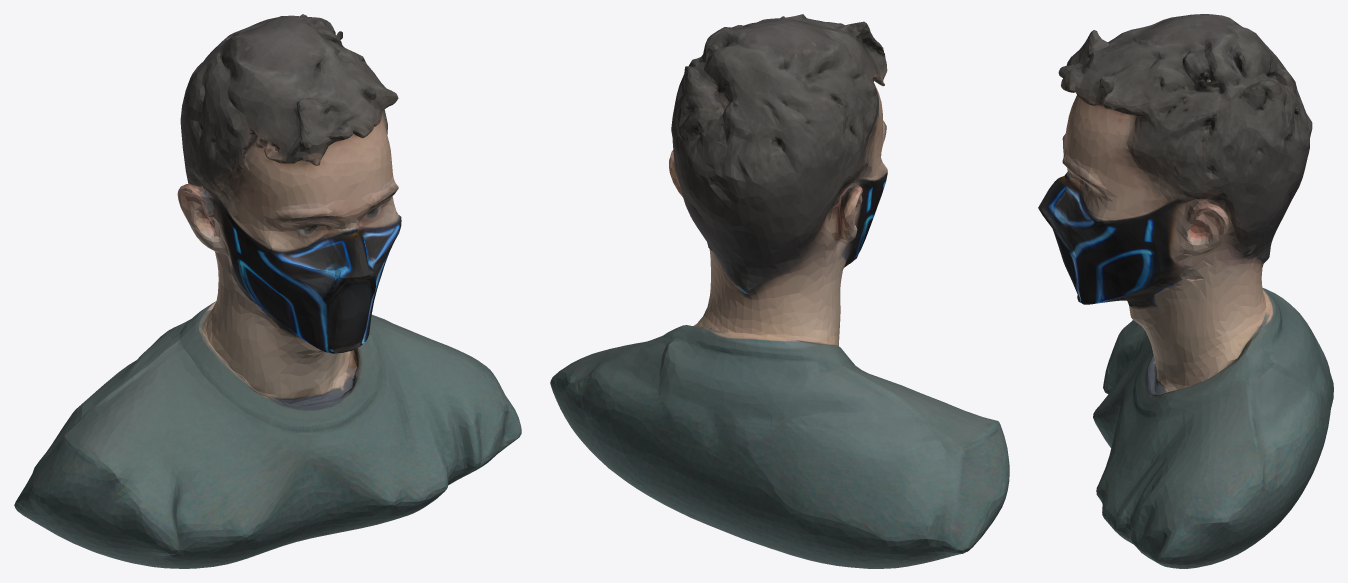
The model's file is edit.glb.
3 views of the same model, side by side, from view 1: azimuth 30°, elevation 25°; view 2: azimuth 150°, elevation 25°; view 3: azimuth 270°, elevation 25° (orthographic). The views are drawn at different scales.
Parts seen in each view (by area): view 1: world; view 2: world; view 3: world.
Part boxes in pixels (bbox=[...]): world: bbox=[14, 14, 521, 568]; world: bbox=[550, 14, 1009, 568]; world: bbox=[1038, 14, 1333, 568].
Bounding box in the file's own units: 0.9342 × 0.9966 × 0.5344.
1 material, 1 textured.
